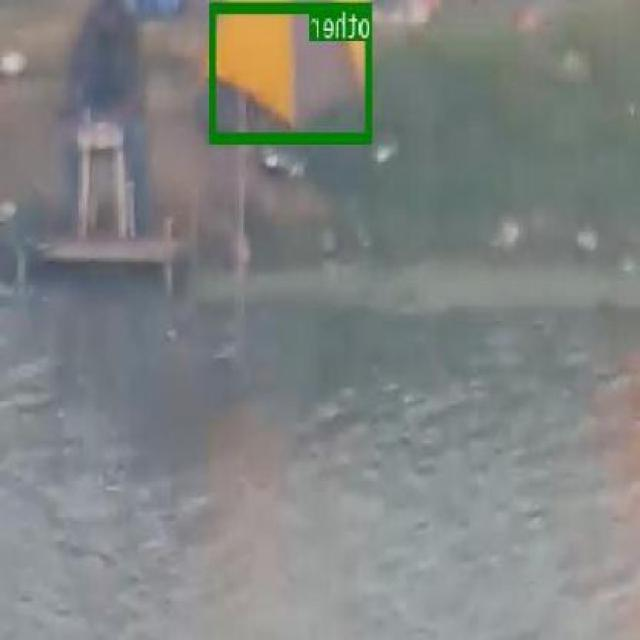other: (212, 1, 374, 141)
